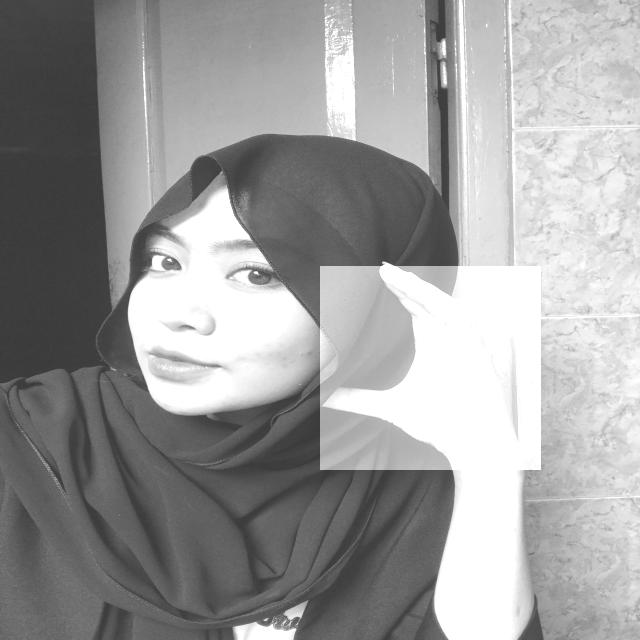mendengar: (320, 266, 541, 470)
